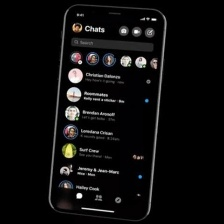phone: (44, 2, 170, 224)
